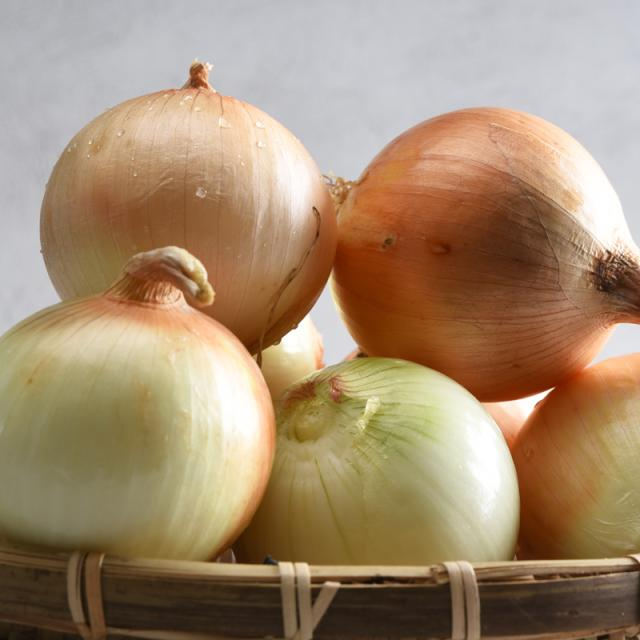onion: (1, 58, 640, 568), (1, 293, 278, 567)
